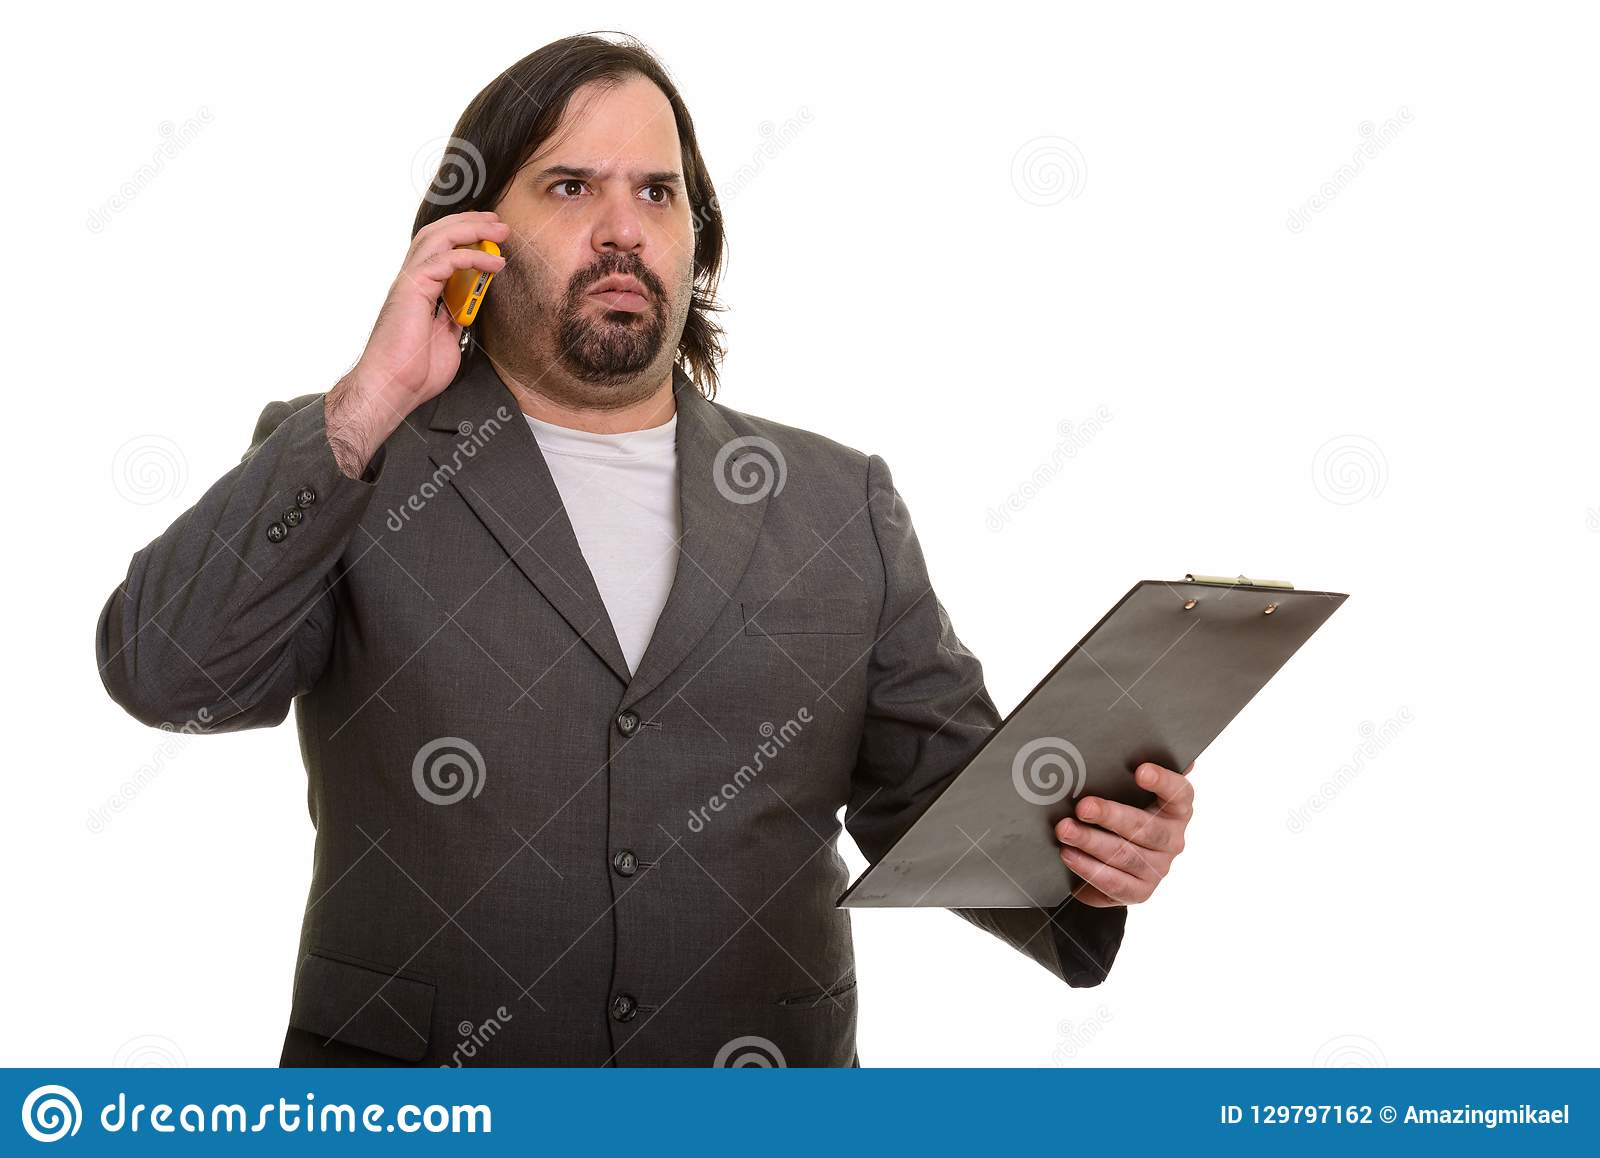phone: (429, 215, 504, 329)
talk: (365, 144, 701, 451)
